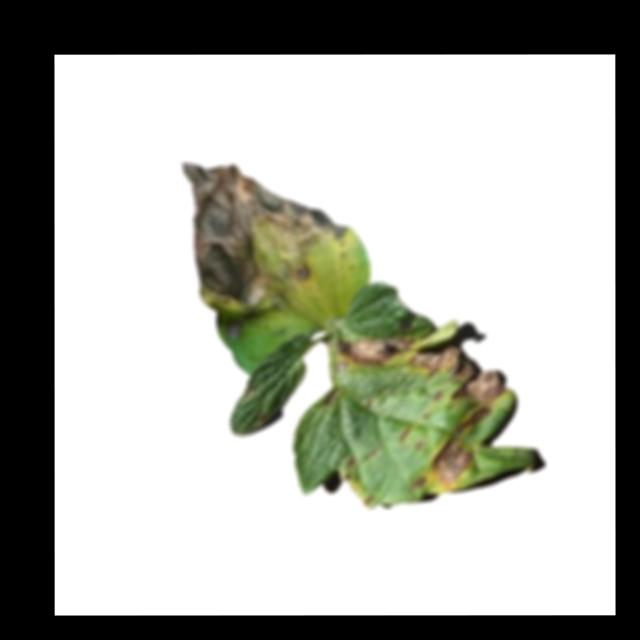Early_blight: (180, 160, 352, 305), (408, 347, 510, 405), (431, 406, 492, 489), (335, 334, 413, 366), (223, 317, 244, 341), (320, 385, 342, 407), (412, 473, 429, 490)
